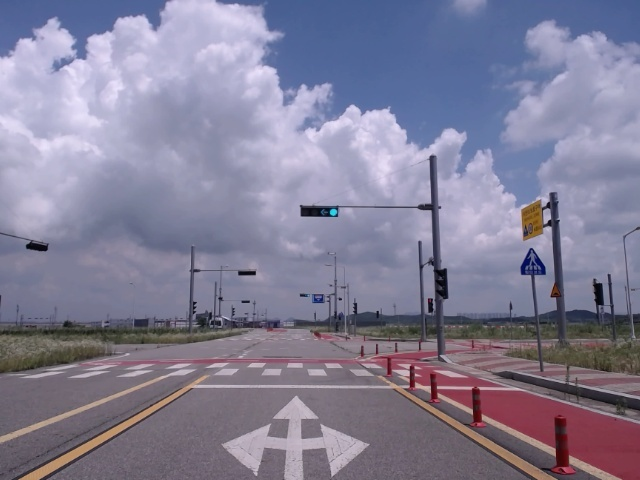all_green_4: (298, 204, 340, 217)
